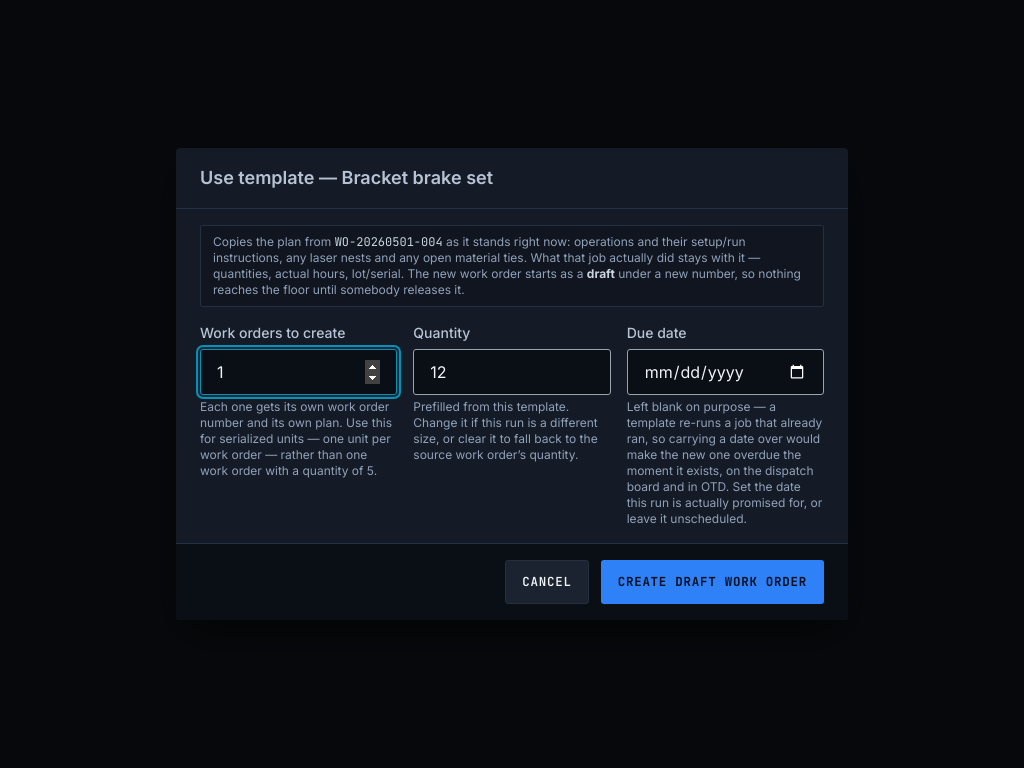
UseTemplateModal: a clean copy stays one click › toasts, hands the WHOLE envelope over, and closes
Click the button "Create draft work order" at {"x": 712, "y": 582}, box [601,560,824,604]
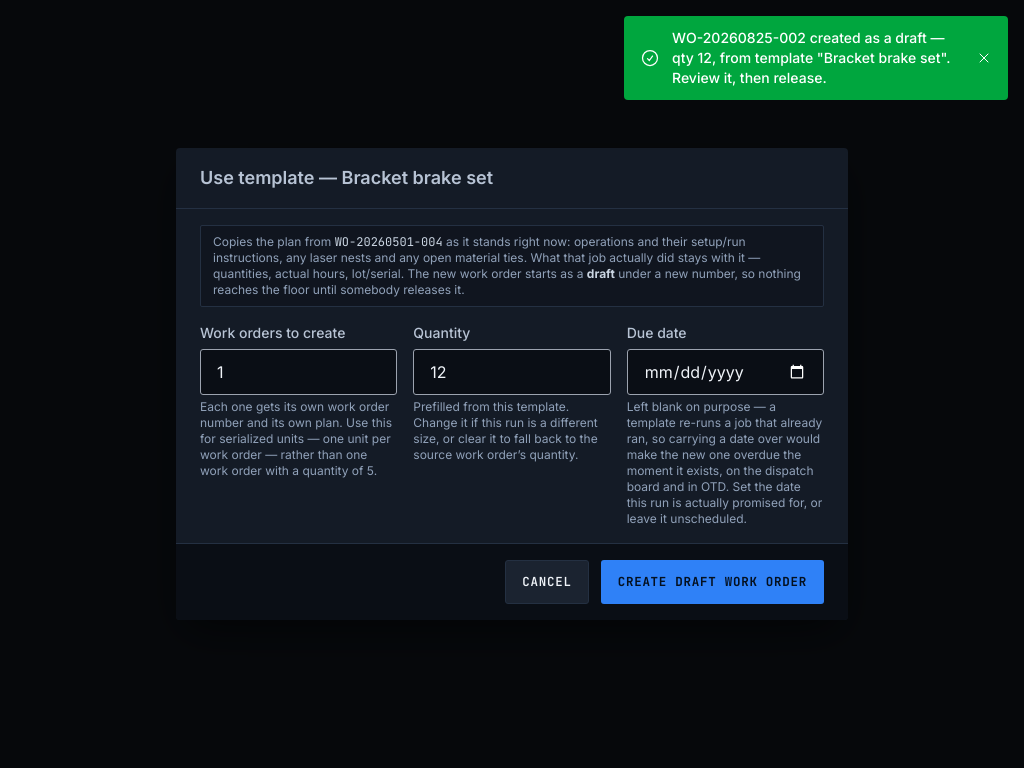
Expected: the text "Review it, then release" is shown, [672,29,950,86]
